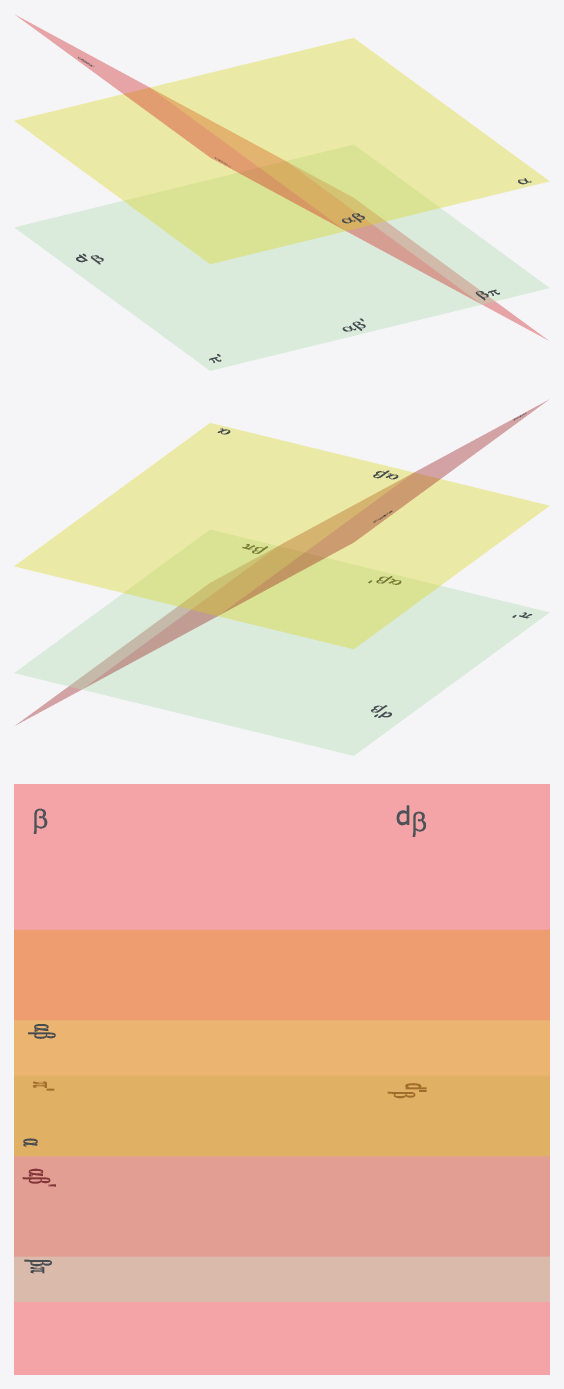
The model's file is int_pq_ph.glb.
3 views of the same model, one above another, from view 1: azimuth 30°, elevation 25°; view 2: azimuth 150°, elevation 25°; view 3: azimuth 270°, elevation 25° (orthographic). The views are drawn at different scales.
Parts seen in each view (by area): view 1: 3DGeom-4, 3DGeom-1, 3DGeom-2, 3DGeom-5, 3DGeom-3; view 2: 3DGeom-4, 3DGeom-1, 3DGeom-2, 3DGeom-5, 3DGeom-3; view 3: 3DGeom-5, 3DGeom-3, 3DGeom-4, 3DGeom-1, 3DGeom-2.
Part boxes in pixels (box(x1,y1,x2,y2)): 3DGeom-4: box(15, 38, 549, 263); 3DGeom-1: box(14, 145, 548, 353); 3DGeom-2: box(74, 188, 413, 370); 3DGeom-5: box(154, 90, 547, 339); 3DGeom-3: box(16, 15, 343, 229); 3DGeom-4: box(14, 423, 548, 648); 3DGeom-1: box(15, 530, 480, 755); 3DGeom-2: box(74, 596, 549, 711); 3DGeom-5: box(16, 475, 409, 724); 3DGeom-3: box(220, 400, 547, 614); 3DGeom-5: box(14, 784, 549, 1374); 3DGeom-3: box(14, 784, 549, 1019); 3DGeom-4: box(14, 930, 549, 1155); 3DGeom-1: box(14, 1076, 549, 1301); 3DGeom-2: box(14, 1076, 386, 1301).
Size of the model in its own units: 2.54 by 1.9 by 2.54.
